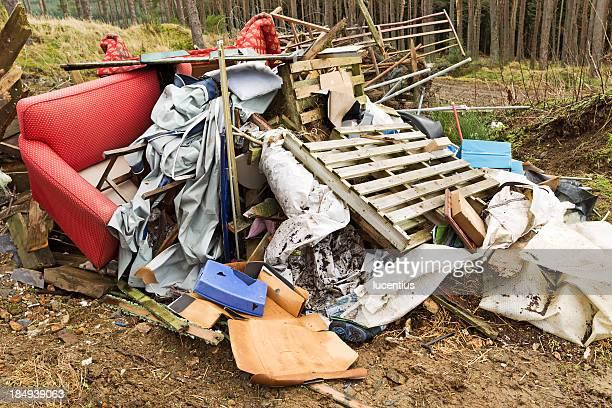garbage: (74, 33, 586, 357)
